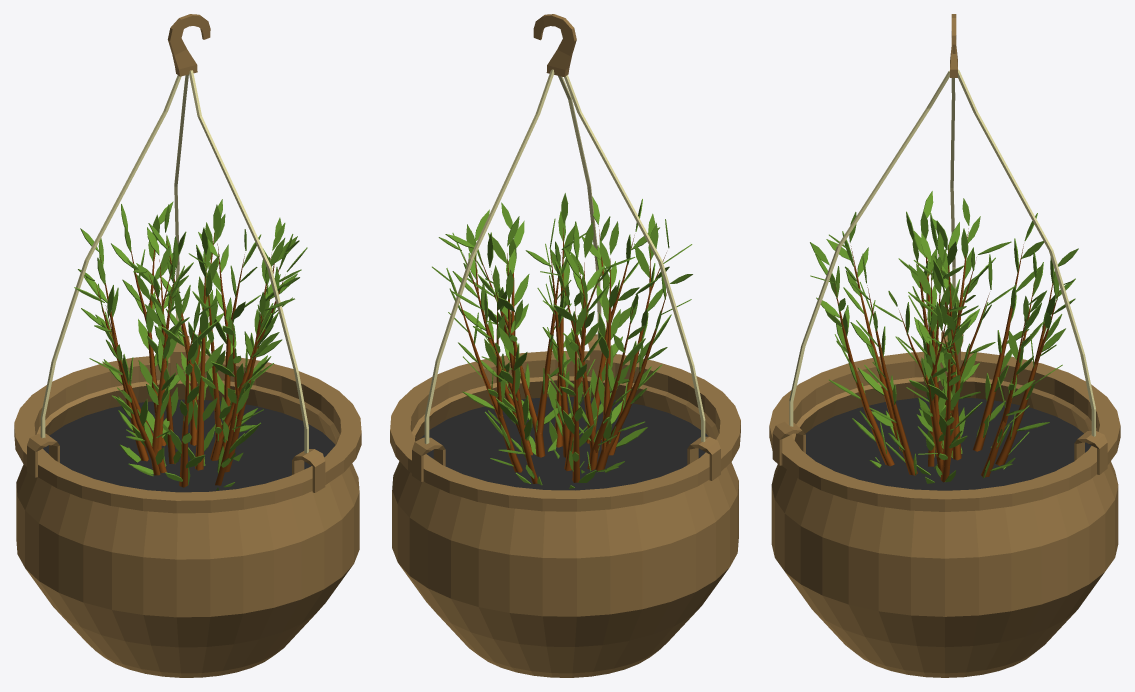
File: flowerplot.fbx
3 renders of one model, left to right at view 1: azimuth 30°, elevation 25°; view 2: azimuth 150°, elevation 25°; view 3: azimuth 270°, elevation 25°, orthographic.
Visible parts, largest first — view 1: Cube, tree; view 2: Cube, tree; view 3: Cube, tree.
Boxes of the visible parts, box(x1,y1,x2,y2) form: Cube: box(14, 14, 361, 677); tree: box(95, 233, 284, 487); Cube: box(390, 14, 740, 677); tree: box(455, 226, 667, 483); Cube: box(769, 14, 1120, 677); tree: box(834, 228, 1059, 482).
Size of the model in its own units: 87.39 by 170 by 86.68.
